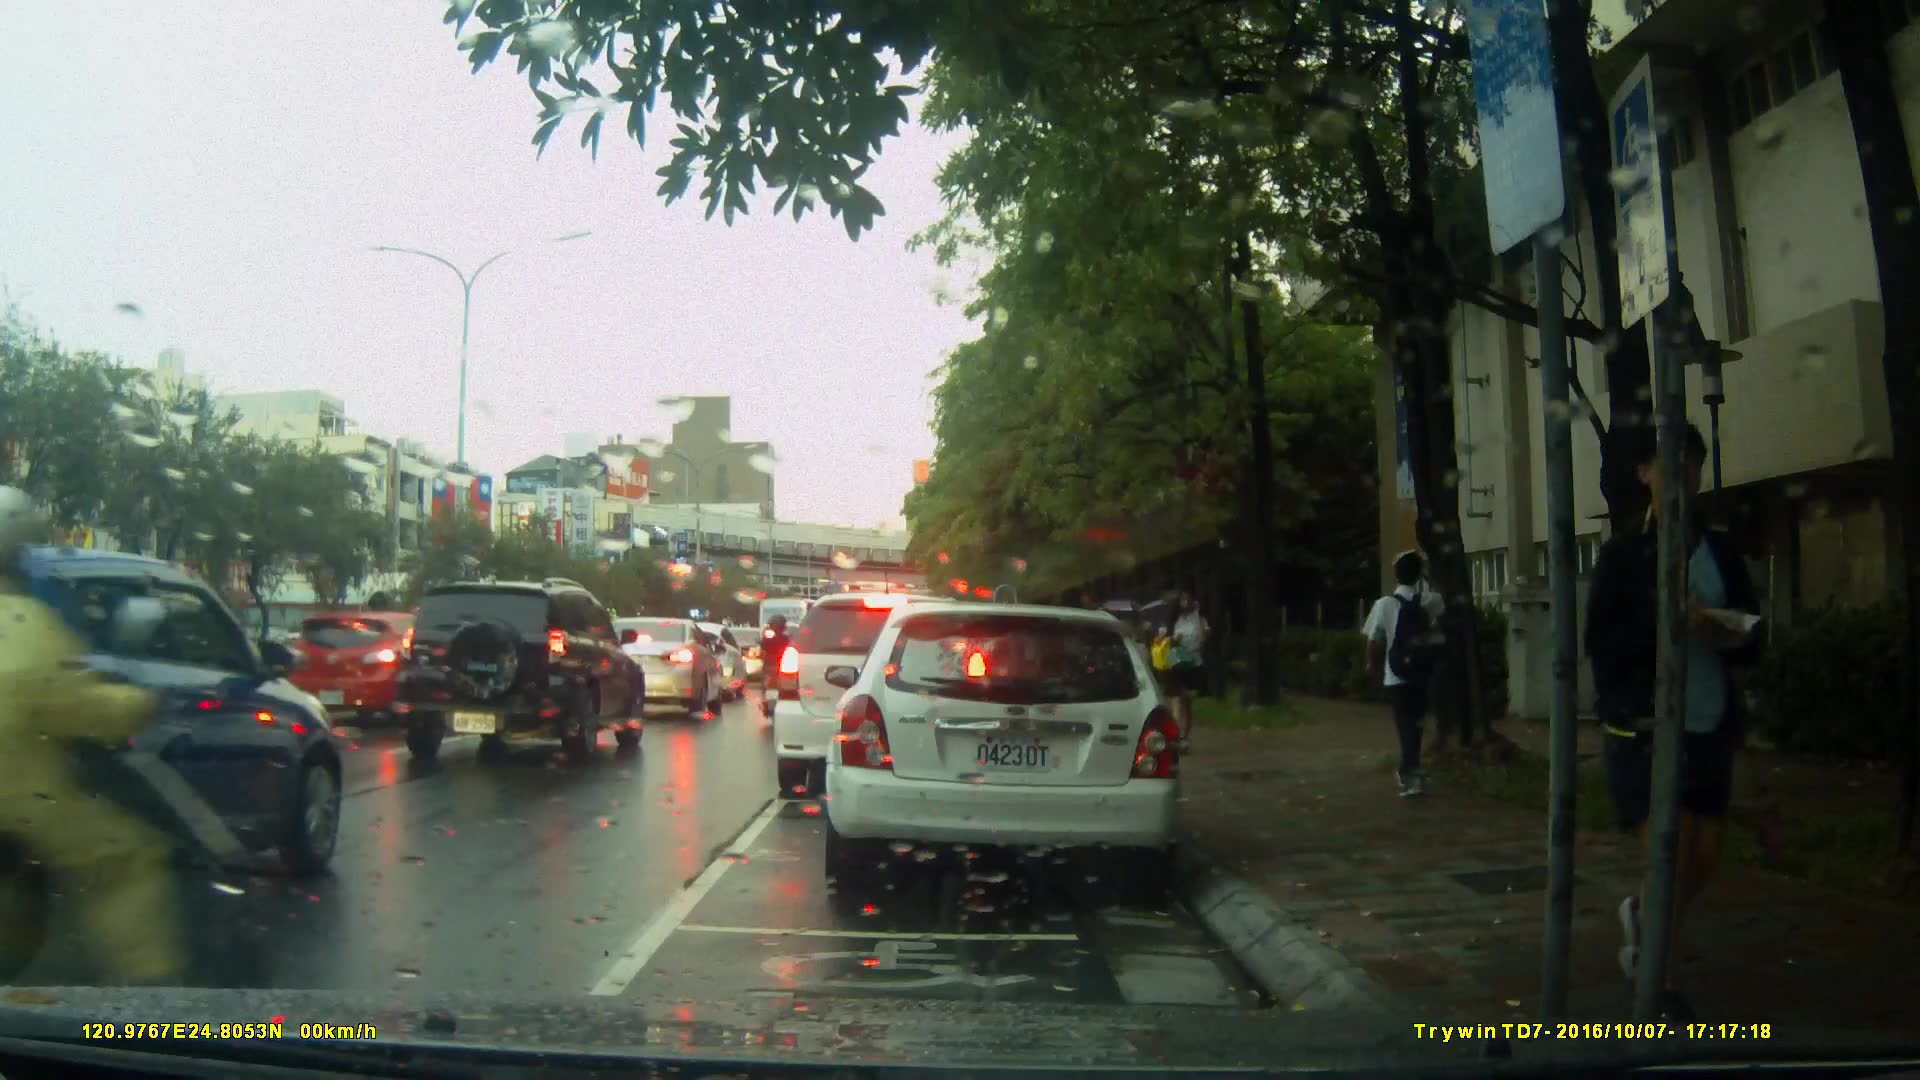pedestrian: (1619, 408, 1772, 994), (1350, 535, 1465, 800), (1152, 578, 1212, 745)
rider: (1, 480, 260, 1068), (749, 611, 794, 723)
vehicle: (4, 530, 348, 913), (815, 593, 1202, 903), (390, 576, 650, 769), (771, 590, 995, 802), (281, 610, 470, 725), (572, 614, 720, 726)
